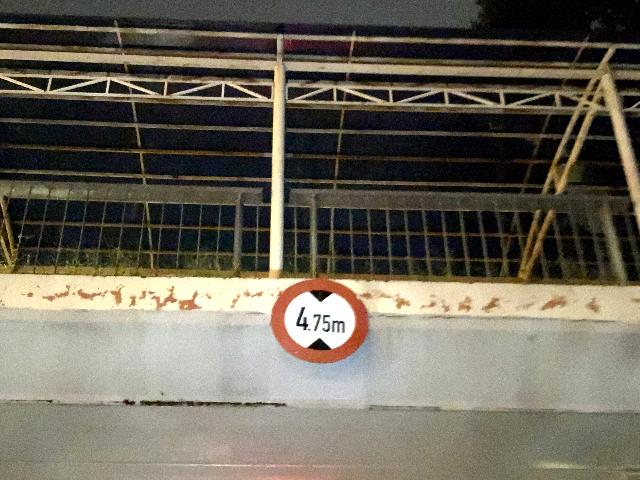han-che-chieu-cao: (272, 276, 369, 363)
